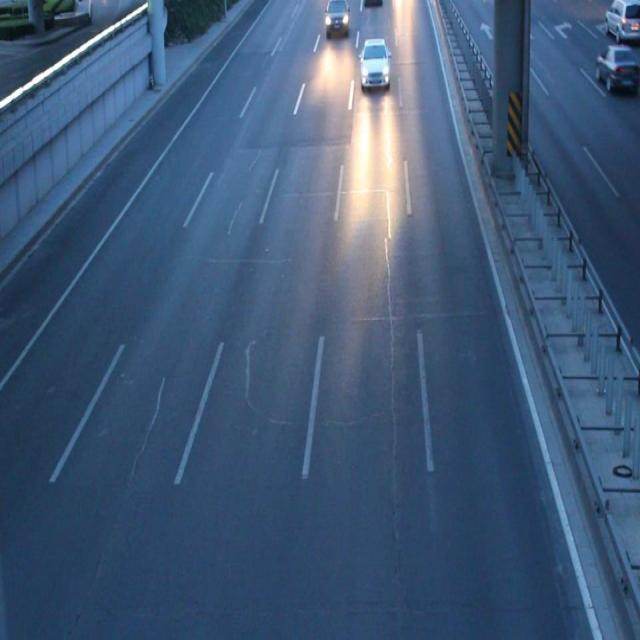car: (358, 38, 390, 88), (325, 2, 347, 34)
